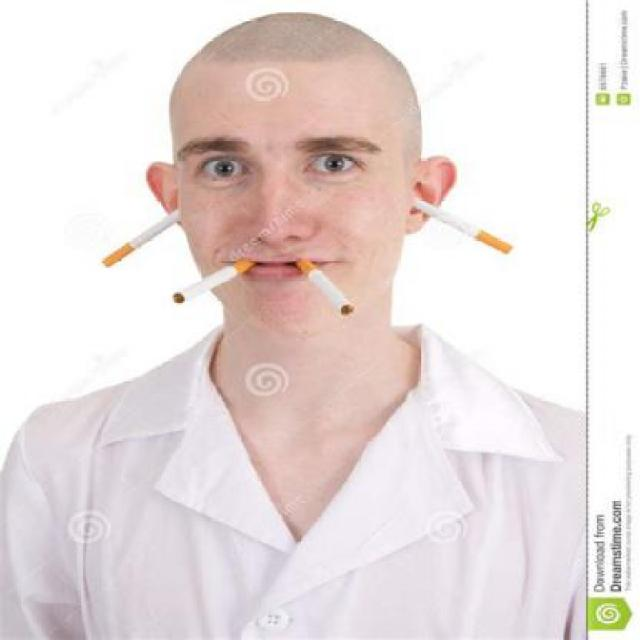cigarette: (404, 194, 518, 263), (94, 200, 188, 274), (166, 254, 262, 312), (288, 252, 358, 322)
